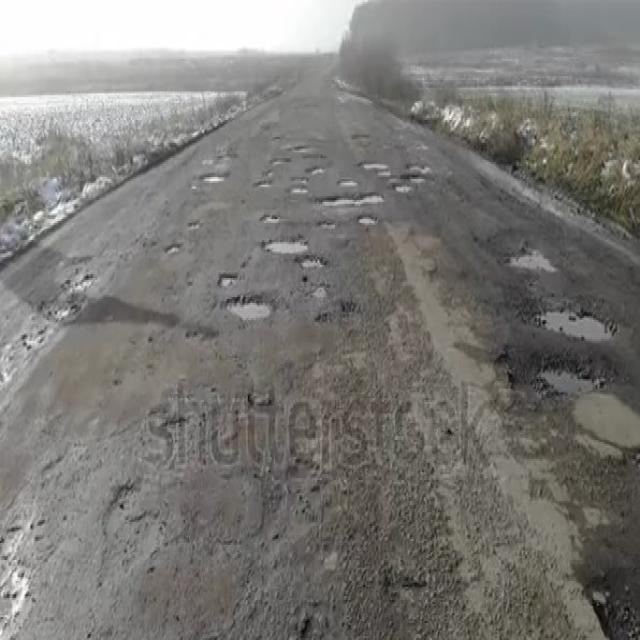pothole: (492, 343, 640, 484), (543, 306, 622, 345), (498, 234, 567, 275), (221, 293, 278, 324), (261, 234, 309, 259), (157, 232, 193, 260), (310, 282, 340, 310), (212, 268, 244, 286), (298, 256, 331, 271), (358, 213, 383, 230), (314, 218, 341, 232), (188, 218, 211, 232), (259, 215, 285, 225)
